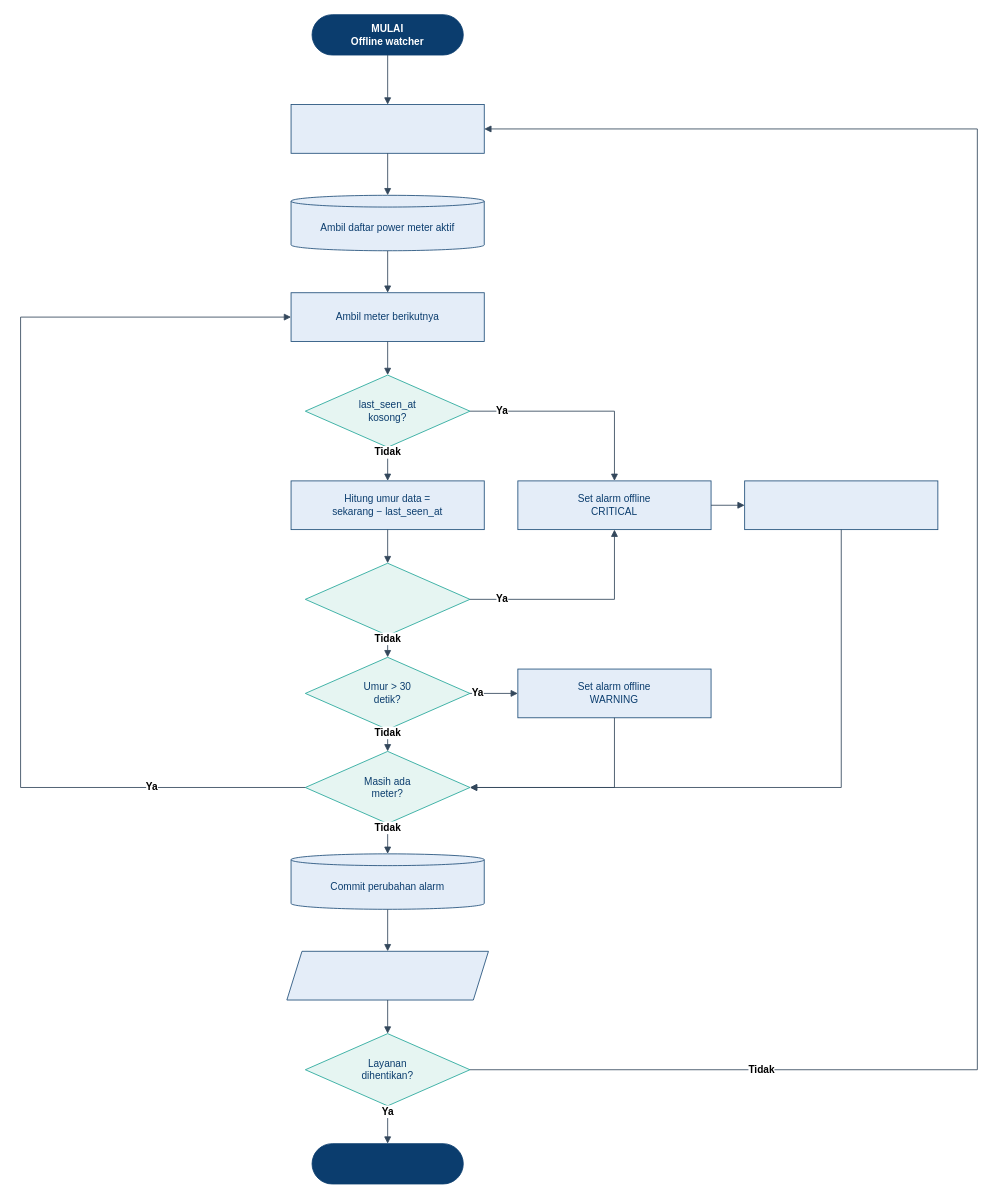
This 999x1199 diagram has some shape labels left out. Each missing label, with the centre of its shape:
"Kirim notifikasi meter offline ke Telegram" belongs at (x=387, y=975).
"SELESAI" belongs at (x=387, y=1163).
"Tandai untuk notifikasi Telegram" belongs at (x=841, y=505).
"Tunggu 15 detik (ambang dapat dikonfigurasi)" belongs at (x=387, y=128).
"Umur > 180 detik?" belongs at (x=387, y=598).
